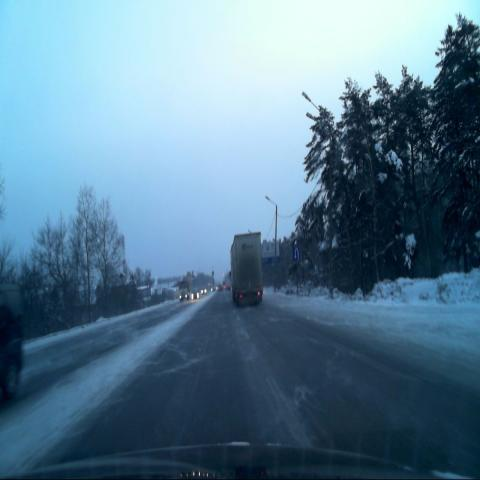6_3_1: (292, 245, 300, 264)
